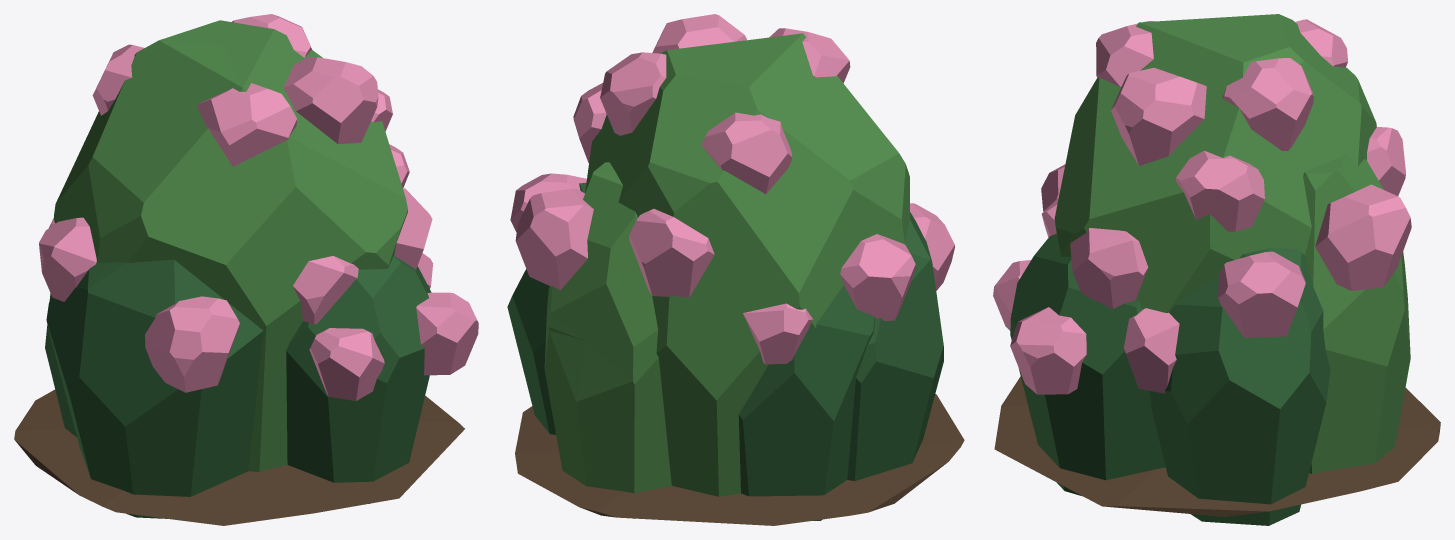
Rendered from hydrangea_pink.glb.
The picture shows the model from 3 angles, left to right: view 1: azimuth 30°, elevation 25°; view 2: azimuth 150°, elevation 25°; view 3: azimuth 270°, elevation 25°; orthographic projection.
Visible parts, largest first — view 1: leaves-0, leaves-1, leaves-3, soil, flower-12, flower-14, flower-9, flower-15, flower-8, flower-3, flower-0, flower-1 (+3 smaller); view 2: leaves-0, leaves-2, leaves-4, soil, leaves-1, flower-13, flower-2, flower-10, flower-3, leaves-5, flower-7, flower-4 (+5 smaller); view 3: leaves-0, leaves-5, leaves-2, leaves-3, soil, flower-13, flower-14, flower-5, flower-7, flower-8, flower-11, flower-1 (+6 smaller).
Part boxes in pixels (box(x1,y1,x2,y2)): leaves-0: box(54, 20, 407, 472); leaves-1: box(46, 259, 263, 518); leaves-3: box(286, 256, 431, 503); soil: box(14, 389, 464, 525); flower-12: box(145, 296, 239, 392); flower-14: box(283, 56, 378, 144); flower-9: box(197, 83, 296, 166); flower-15: box(309, 328, 384, 400); flower-8: box(416, 292, 478, 375); flower-3: box(39, 217, 96, 301); flower-0: box(293, 256, 358, 324); flower-1: box(394, 188, 432, 269); leaves-0: box(585, 33, 909, 496); leaves-2: box(544, 162, 671, 518); leaves-4: box(738, 285, 875, 520); soil: box(515, 394, 964, 525); leaves-1: box(847, 212, 943, 480); flower-13: box(515, 188, 593, 290); flower-2: box(629, 208, 714, 297); flower-10: box(701, 112, 792, 193); flower-3: box(840, 234, 916, 321); leaves-5: box(507, 182, 586, 434); flower-7: box(600, 52, 666, 135); flower-4: box(743, 303, 812, 364); leaves-0: box(1054, 14, 1376, 312); leaves-5: box(1150, 247, 1330, 525); leaves-2: box(1303, 154, 1410, 473); leaves-3: box(1010, 234, 1165, 496); soil: box(994, 376, 1440, 516); flower-13: box(1315, 184, 1411, 290); flower-14: box(1111, 67, 1206, 165); flower-5: box(1218, 251, 1305, 337); flower-7: box(1222, 58, 1313, 150); flower-8: box(1010, 307, 1086, 394); flower-11: box(1175, 150, 1264, 231); flower-1: box(1070, 228, 1148, 308).
Size of the model in its own units: 0.9771 by 1 by 0.9944.
